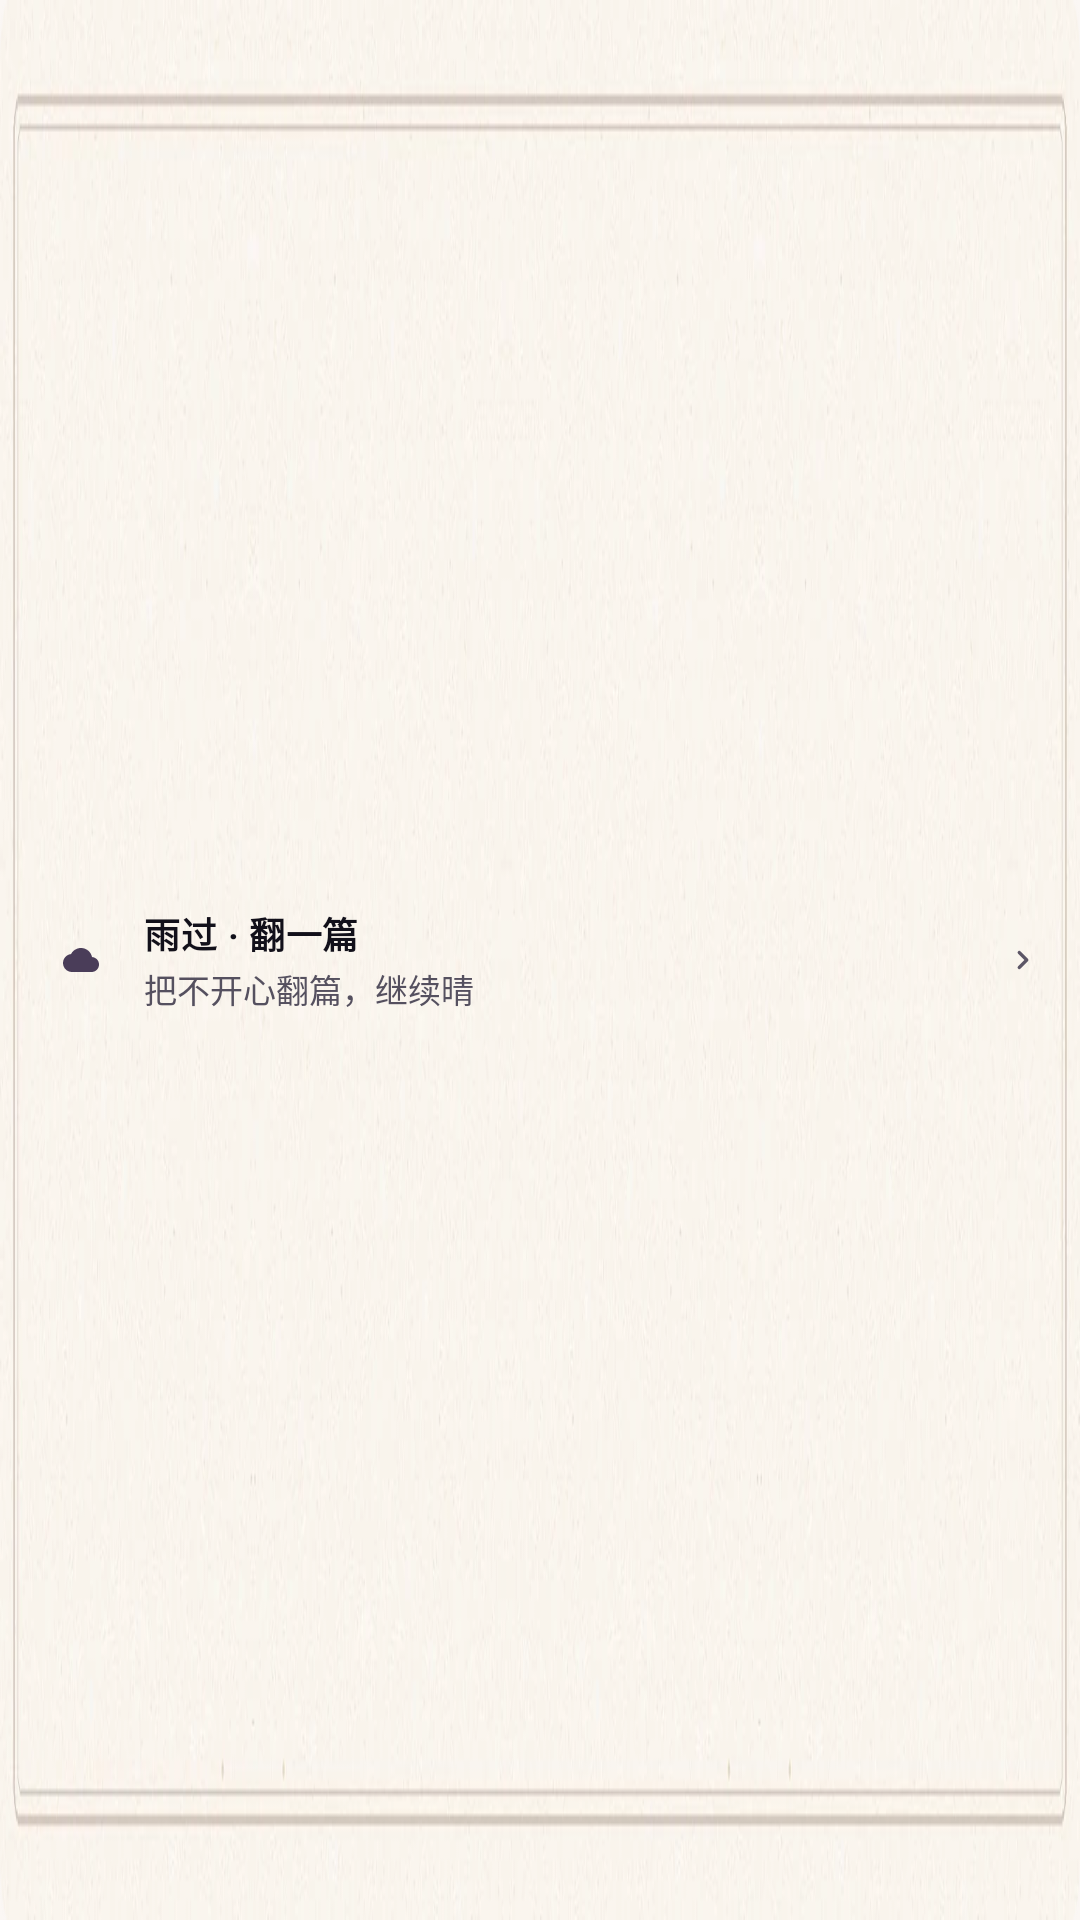

Point at icon controls on the screen. Image size 1080×1920, points as [x,y].
cloud: [81,960]
